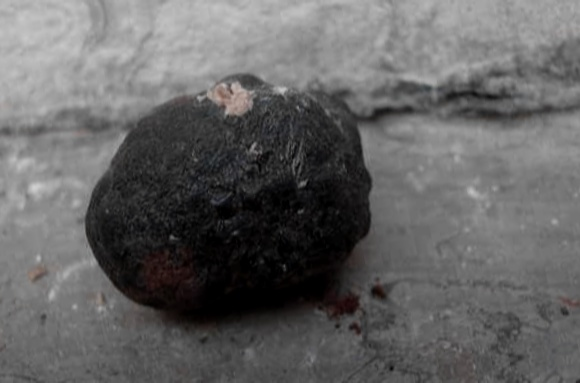halobolite: (52, 47, 392, 341)
